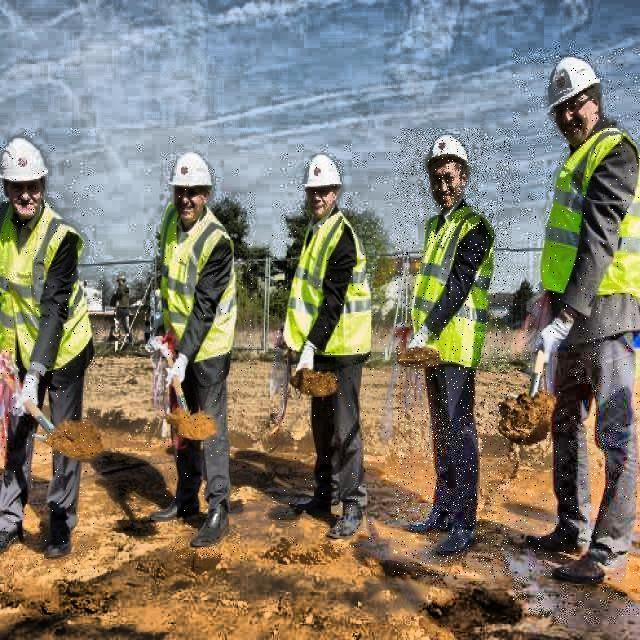safety_helmet: (538, 46, 615, 126), (417, 127, 481, 192), (0, 129, 56, 197), (292, 148, 356, 206), (158, 144, 222, 201)
safety_jacket: (0, 191, 103, 397), (148, 192, 252, 395), (274, 207, 386, 387), (402, 193, 504, 386)
